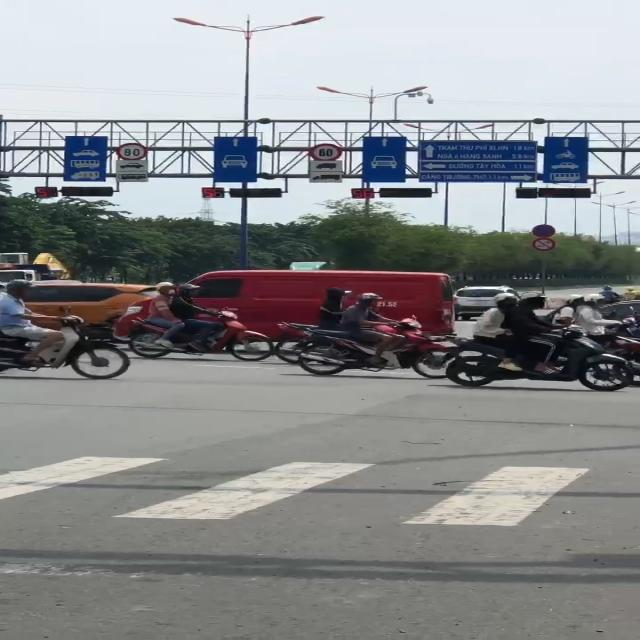Bien bao toc do toi da cho phep: (114, 140, 155, 161), (308, 140, 346, 162)
